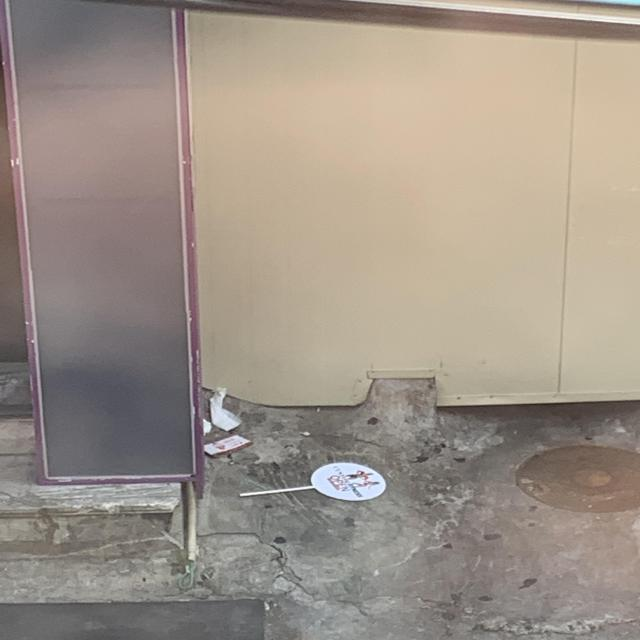litter: (147, 366, 432, 546)
